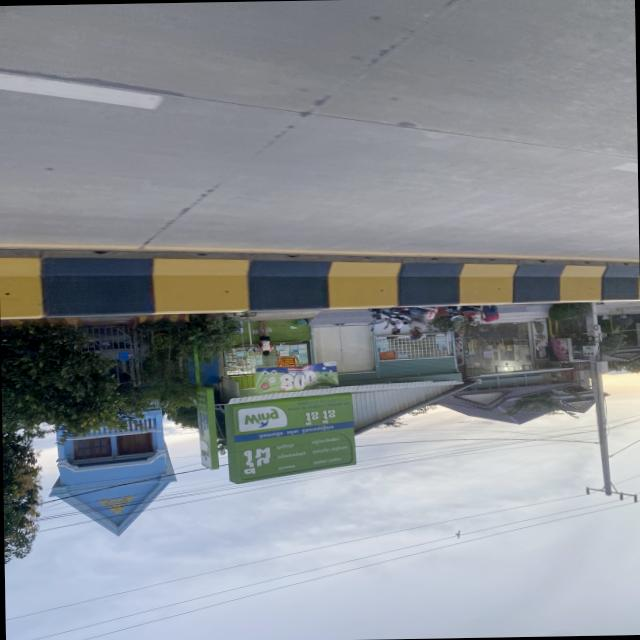1: (302, 408, 336, 425)
2: (257, 422, 336, 440)
894: (278, 370, 319, 392)
Yolov11kh: (241, 443, 274, 475)
